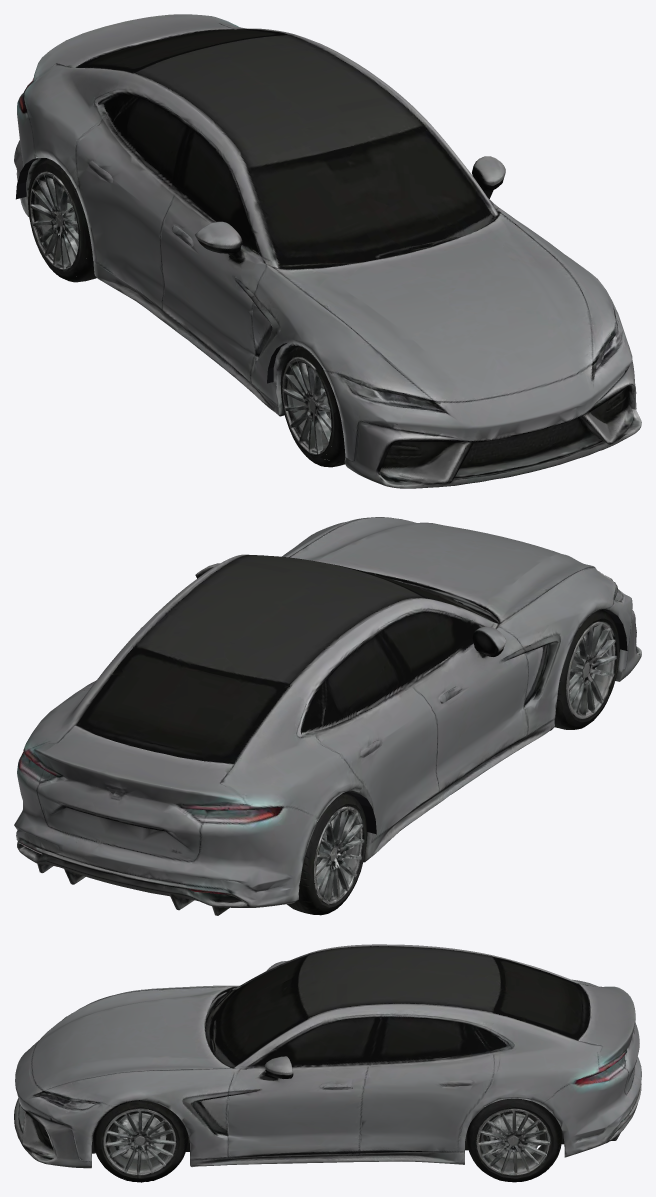
File: car_courier.glb
The picture shows the model from 3 angles, top to bottom: view 1: azimuth 30°, elevation 25°; view 2: azimuth 150°, elevation 25°; view 3: azimuth 270°, elevation 25°; orthographic projection. The views are drawn at different scales.
Visible parts, largest first — view 1: body, wheel_RR, wheel_FR; view 2: body, wheel_RR, wheel_FR; view 3: body, wheel_RL, wheel_FL.
Boxes of the visible parts, x1,y1,x2,y2 form: body: (14, 14, 641, 488); wheel_RR: (28, 161, 87, 280); wheel_FR: (276, 346, 334, 465); body: (14, 517, 641, 915); wheel_RR: (287, 796, 367, 915); wheel_FR: (554, 613, 618, 729); body: (14, 944, 641, 1181); wheel_RL: (471, 1100, 562, 1182); wheel_FL: (101, 1101, 188, 1182).
Size of the model in its own units: 2.01 by 1.38 by 4.85.
Materials: 2 (1 with a texture image).
